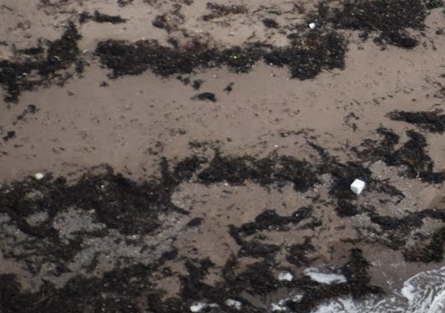white_in_green: (332, 165, 383, 210)
